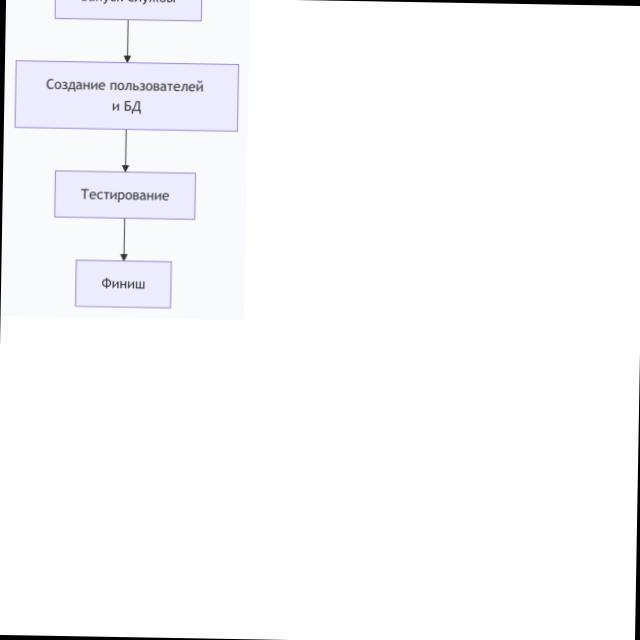arrow: (124, 21, 130, 61), (125, 130, 127, 161), (124, 219, 125, 250)
rectangle: (16, 60, 239, 132), (54, 171, 196, 219), (76, 260, 171, 308)
